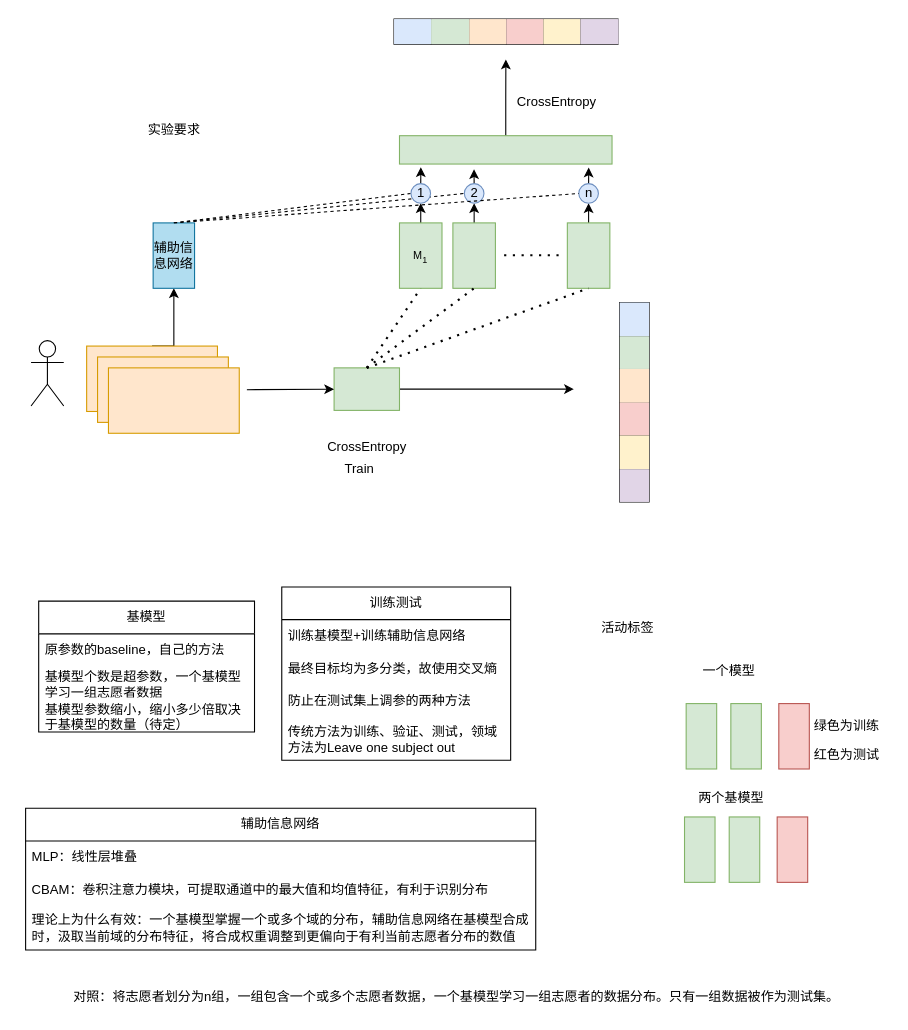
Some shapes in this 908 by 1030 pixel diagram are drawn without their labels. Here are the shapes that lost their labels. From the top down, the centre of each, then its label:
At (473,255): "M 2".
At (588,255): "M n".
At (47,373): "Volunteer i".
At (366,388): "Model".
